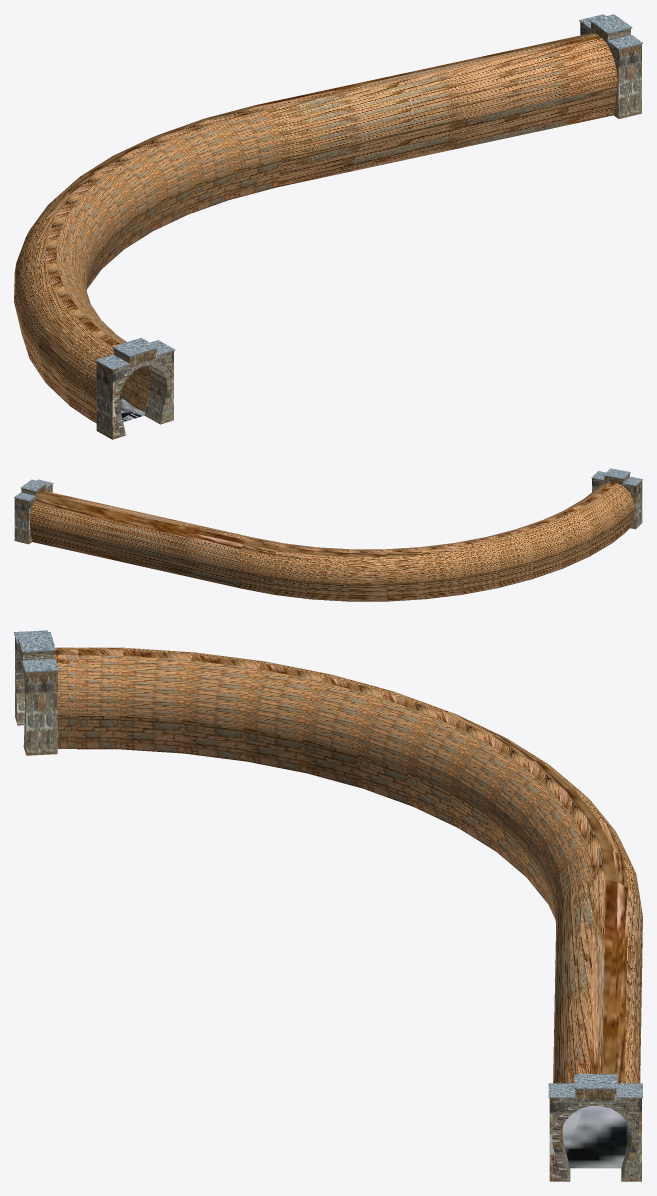
The model's file is GMLID_BUI289877_1911_4122.dae.
3 renders of one model, top to bottom at view 1: azimuth 30°, elevation 25°; view 2: azimuth 150°, elevation 25°; view 3: azimuth 270°, elevation 25°, orthographic. The views are drawn at different scales.
Size of the model in its own units: 122 by 73.66 by 15.38.
Materials: 4 (4 with a texture image).
